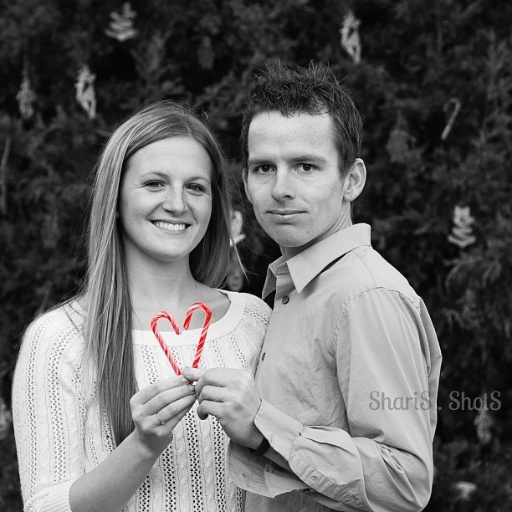hand: (128, 372, 196, 457), (194, 368, 259, 448)
